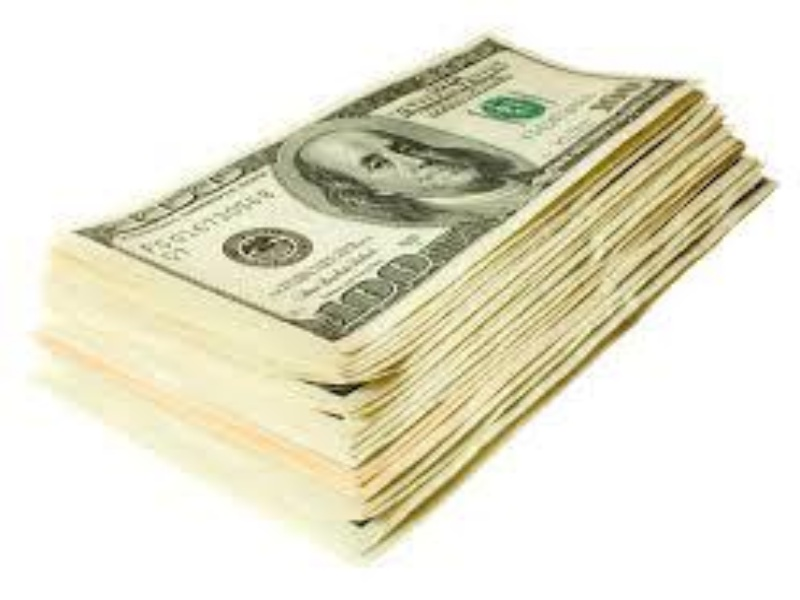cash: (24, 27, 781, 561)
